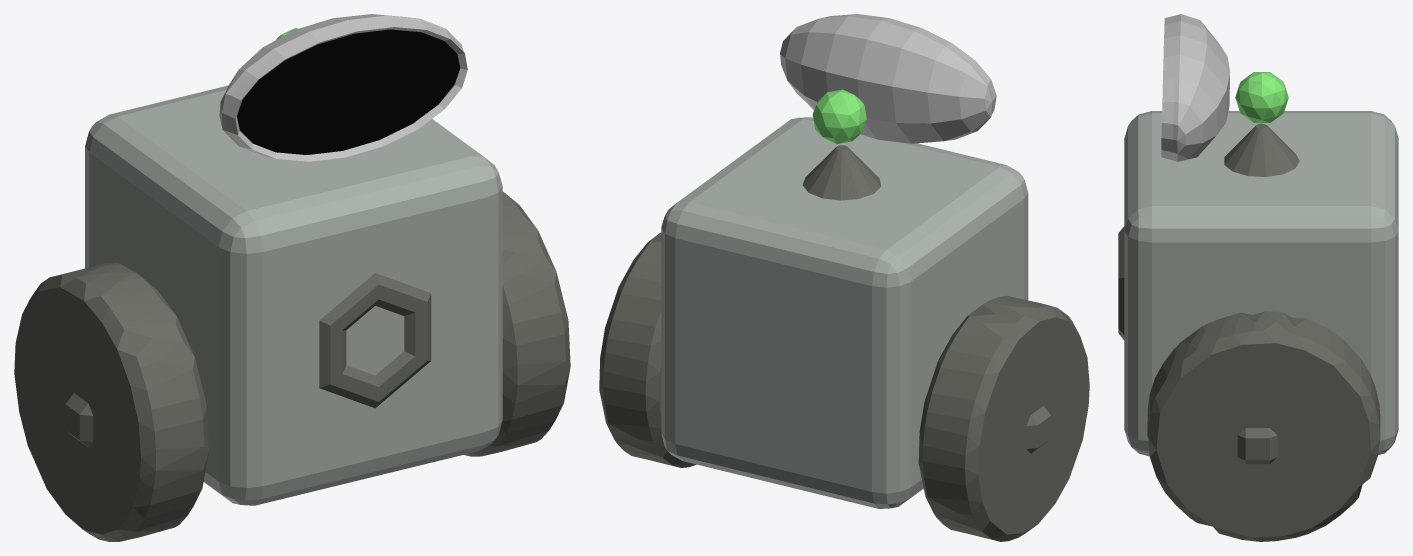
Rendered from Robot_test 1.fbx.
3 views of the same model, side by side, from view 1: azimuth 30°, elevation 25°; view 2: azimuth 150°, elevation 25°; view 3: azimuth 270°, elevation 25° (orthographic). The views are drawn at different scales.
Parts seen in each view (by area): view 1: 立方体, 立方体.003, 球.002, 立方体.001, Torus.002, 球.001; view 2: 立方体, 立方体.003, 球.001, 立方体.001, 円錐, ICO球; view 3: 立方体, 立方体.001, 球.001, 円錐, ICO球, Torus.002.
Boxes of the visible parts, <box> form: 立方体: <box>85,85,502,505</box>; 立方体.003: <box>14,263,208,541</box>; 球.002: <box>237,29,460,154</box>; 立方体.001: <box>464,191,570,456</box>; Torus.002: <box>319,273,431,408</box>; 球.001: <box>219,14,467,161</box>; 立方体: <box>661,117,1028,508</box>; 立方体.003: <box>918,295,1089,541</box>; 球.001: <box>780,14,996,143</box>; 立方体.001: <box>599,232,696,467</box>; 円錐: <box>802,145,881,200</box>; ICO球: <box>812,89,866,144</box>; 立方体: <box>1124,111,1398,456</box>; 立方体.001: <box>1147,311,1380,541</box>; 球.001: <box>1161,14,1230,162</box>; 円錐: <box>1224,123,1299,176</box>; ICO球: <box>1235,72,1288,122</box>; Torus.002: <box>1118,226,1124,339</box>.
Bounding box in the file's own units: 141 × 150 × 90.03.
